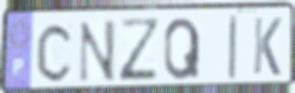C: (35, 20, 76, 84)
I: (227, 13, 239, 82)
K: (251, 16, 284, 79)
N: (77, 18, 117, 85)
Q: (162, 15, 202, 83)
Z: (118, 17, 163, 85)
